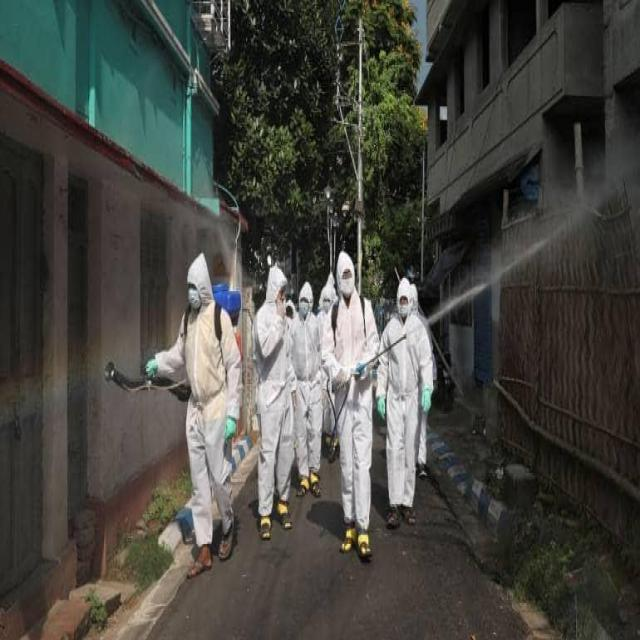Coverall: (311, 235, 402, 571), (179, 225, 251, 584), (373, 260, 432, 522), (241, 254, 293, 541), (273, 248, 325, 504)
Gloves: (219, 408, 266, 458), (139, 349, 165, 402)
Mask: (179, 281, 207, 316), (331, 274, 360, 297)
